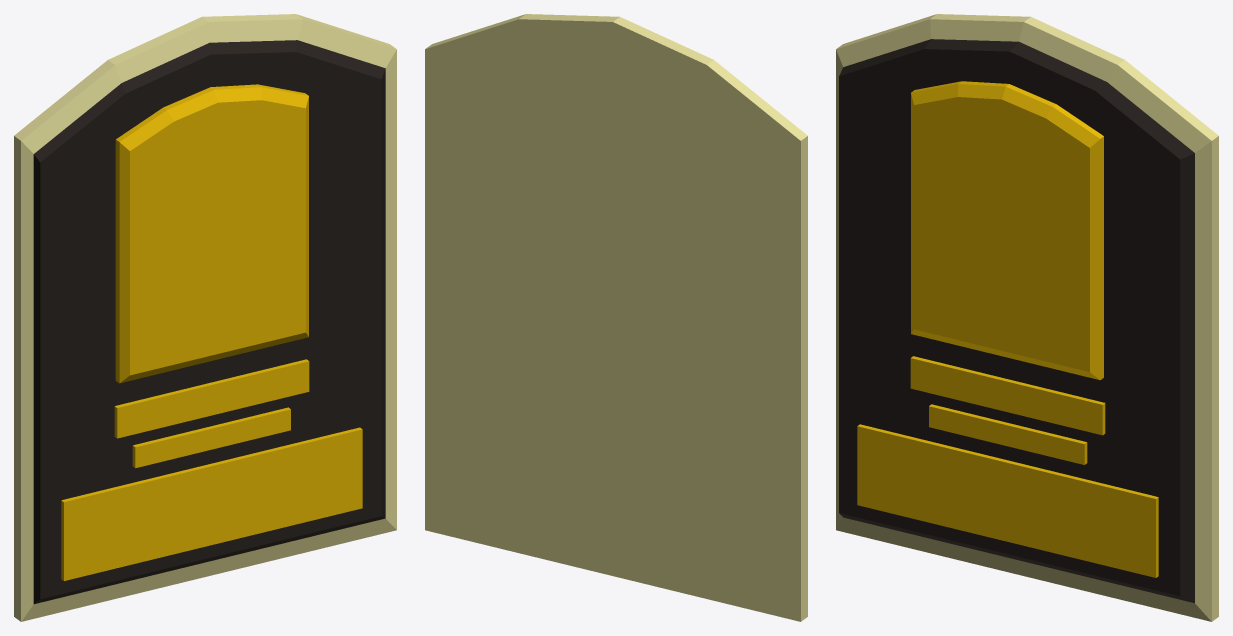
File: blankplaque.fbx
3 views of the same model, side by side, from view 1: azimuth 30°, elevation 25°; view 2: azimuth 150°, elevation 25°; view 3: azimuth 330°, elevation 25° (orthographic).
Parts seen in each view (by area): view 1: Cube; view 2: Cube; view 3: Cube.
Part boxes in pixels (box(x1,y1,x2,y2)): Cube: box(14, 14, 396, 621); Cube: box(425, 14, 807, 621); Cube: box(836, 14, 1218, 621).
Bounding box in the file's own units: 1250 × 1761 × 130.
